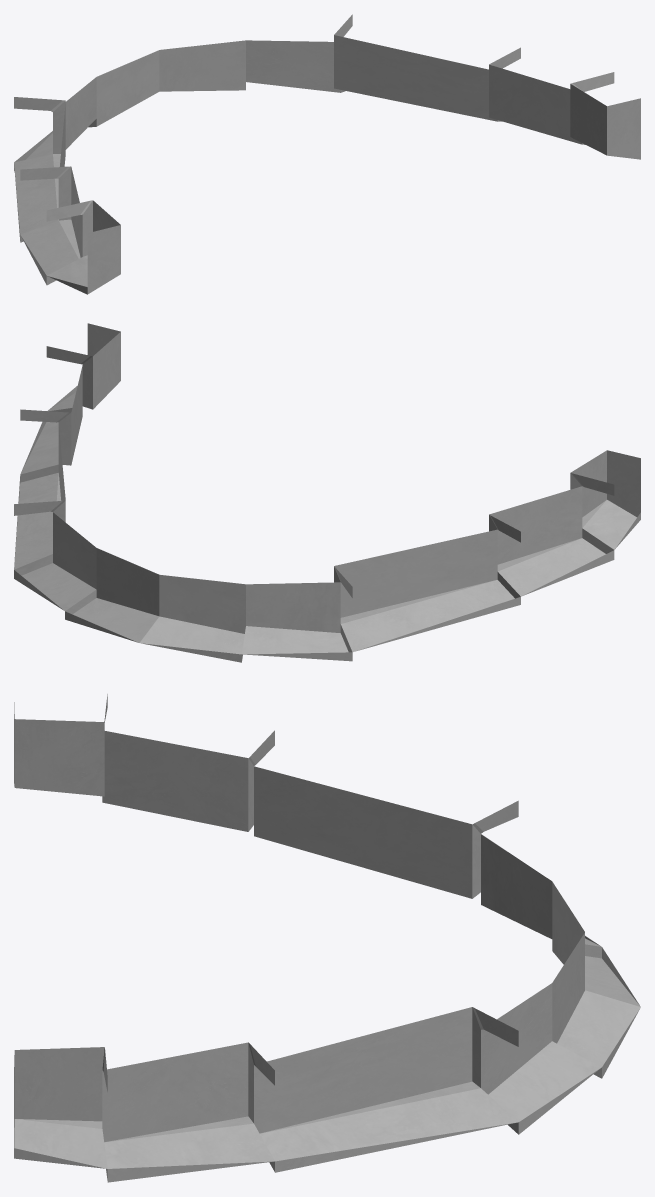
File: SM_SceneMesh_SideDeco_01.fbx
3 views of the same model, one above another, from view 1: azimuth 30°, elevation 25°; view 2: azimuth 150°, elevation 25°; view 3: azimuth 270°, elevation 25° (orthographic). The views are drawn at different scales.
Visible parts, largest first — view 1: SM_SceneMesh_SideDeco_01_LOD0; view 2: SM_SceneMesh_SideDeco_01_LOD0; view 3: SM_SceneMesh_SideDeco_01_LOD0.
Part boxes in pixels (x1,y1,x2,y2): SM_SceneMesh_SideDeco_01_LOD0: [14, 14, 640, 294]; SM_SceneMesh_SideDeco_01_LOD0: [14, 323, 640, 662]; SM_SceneMesh_SideDeco_01_LOD0: [14, 694, 640, 1182].
Size of the model in its own units: 5091 by 3492 by 830.
1 material, 1 textured.
